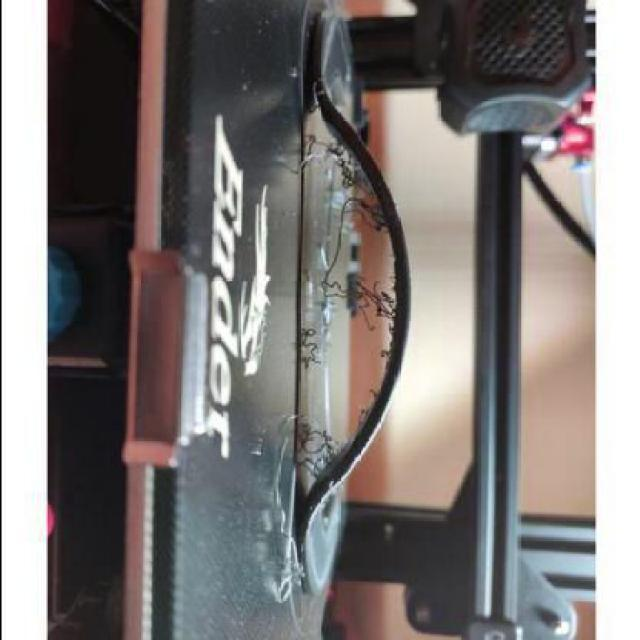spaghetti: (296, 134, 399, 480)
